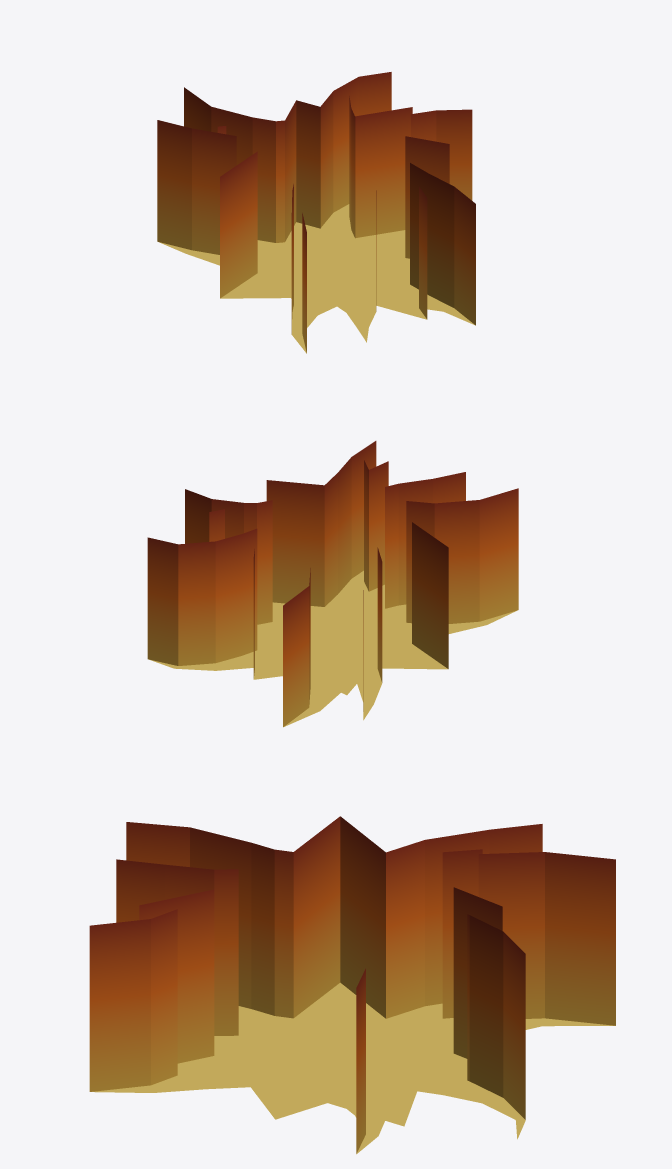
Rendered from VolcanoCrack.gltf.
The picture shows the model from 3 angles, top to bottom: view 1: azimuth 30°, elevation 25°; view 2: azimuth 150°, elevation 25°; view 3: azimuth 270°, elevation 25°; orthographic projection. The views are drawn at different scales.
Visible parts, largest first — view 1: CrackInside; view 2: CrackInside; view 3: CrackInside.
Part boxes in pixels (x1,y1,x2,y2): CrackInside: (157, 72, 475, 353); CrackInside: (147, 441, 518, 727); CrackInside: (89, 816, 615, 1154).
Bounding box in the file's own units: 92.58 × 26.4 × 92.58.
